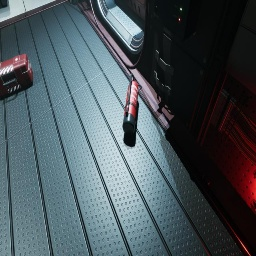FireExtinguisher ]: (122, 73, 138, 136)
FirstAidBox ,: (0, 54, 33, 98)
